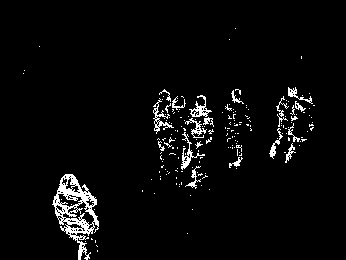person: (51, 173, 101, 259), (185, 95, 213, 190), (221, 89, 253, 169), (270, 85, 296, 159), (287, 96, 314, 164), (152, 89, 171, 175), (171, 95, 182, 173)
